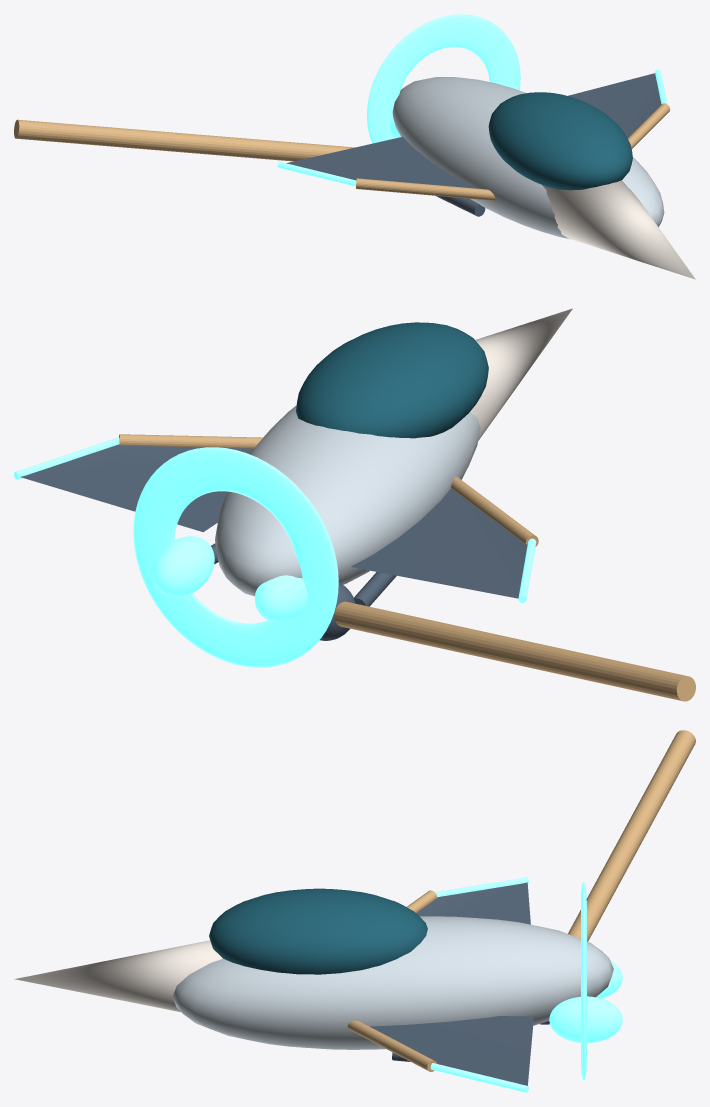
Rendered from recon_shuttle.glb.
3 views of the same model, one above another, from view 1: azimuth 30°, elevation 25°; view 2: azimuth 150°, elevation 25°; view 3: azimuth 270°, elevation 25° (orthographic). The views are drawn at different scales.
Visible parts, largest first — view 1: DISPLAY_01_01_•_Porcelain_silver, DISPLAY_00_13_•_Cockpit_obsidian, DISPLAY_05_03_•_Champagne_bronze, DISPLAY_03_11_•_Ion_emission_blue, DISPLAY_02_04_•_Graphite_titanium, DISPLAY_04_02_•_Pearl_ivory; view 2: DISPLAY_03_11_•_Ion_emission_blue, DISPLAY_01_01_•_Porcelain_silver, DISPLAY_02_04_•_Graphite_titanium, DISPLAY_00_13_•_Cockpit_obsidian, DISPLAY_05_03_•_Champagne_bronze, DISPLAY_04_02_•_Pearl_ivory; view 3: DISPLAY_01_01_•_Porcelain_silver, DISPLAY_00_13_•_Cockpit_obsidian, DISPLAY_02_04_•_Graphite_titanium, DISPLAY_04_02_•_Pearl_ivory, DISPLAY_05_03_•_Champagne_bronze, DISPLAY_03_11_•_Ion_emission_blue.
Part boxes in pixels (left/top/right/bottom): DISPLAY_01_01_•_Porcelain_silver: left=392, top=77, right=664, bottom=239; DISPLAY_00_13_•_Cockpit_obsidian: left=488, top=92, right=632, bottom=190; DISPLAY_05_03_•_Champagne_bronze: left=14, top=103, right=670, bottom=200; DISPLAY_03_11_•_Ion_emission_blue: left=277, top=14, right=667, bottom=186; DISPLAY_02_04_•_Graphite_titanium: left=286, top=73, right=661, bottom=216; DISPLAY_04_02_•_Pearl_ivory: left=542, top=180, right=695, bottom=279; DISPLAY_03_11_•_Ion_emission_blue: left=14, top=437, right=536, bottom=667; DISPLAY_01_01_•_Porcelain_silver: left=215, top=405, right=480, bottom=596; DISPLAY_02_04_•_Graphite_titanium: left=20, top=444, right=527, bottom=640; DISPLAY_00_13_•_Cockpit_obsidian: left=296, top=322, right=488, bottom=438; DISPLAY_05_03_•_Champagne_bronze: left=119, top=434, right=695, bottom=701; DISPLAY_04_02_•_Pearl_ivory: left=470, top=308, right=572, bottom=440; DISPLAY_01_01_•_Porcelain_silver: left=172, top=916, right=613, bottom=1049; DISPLAY_00_13_•_Cockpit_obsidian: left=209, top=888, right=427, bottom=974; DISPLAY_02_04_•_Graphite_titanium: left=370, top=882, right=549, bottom=1085; DISPLAY_04_02_•_Pearl_ivory: left=14, top=940, right=222, bottom=1012; DISPLAY_05_03_•_Champagne_bronze: left=347, top=730, right=695, bottom=1071; DISPLAY_03_11_•_Ion_emission_blue: left=430, top=877, right=622, bottom=1092.
Size of the model in its own units: 3.47 by 0.925 by 3.15.
